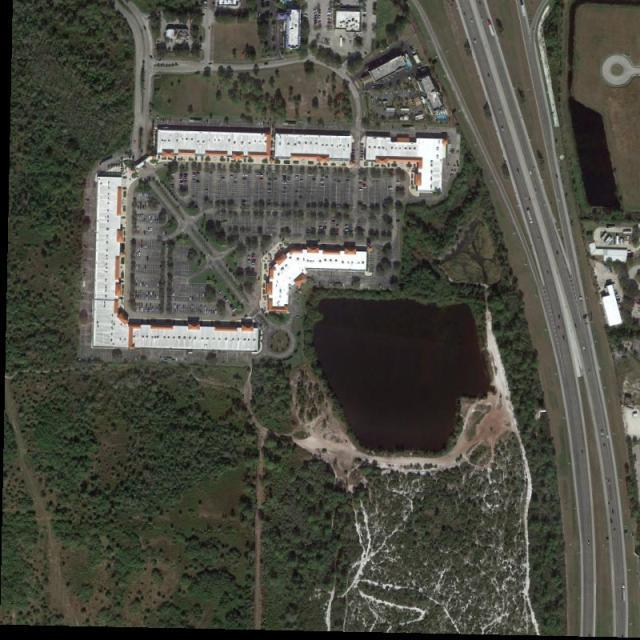vehicle: (486, 20, 496, 37), (526, 210, 534, 225)
